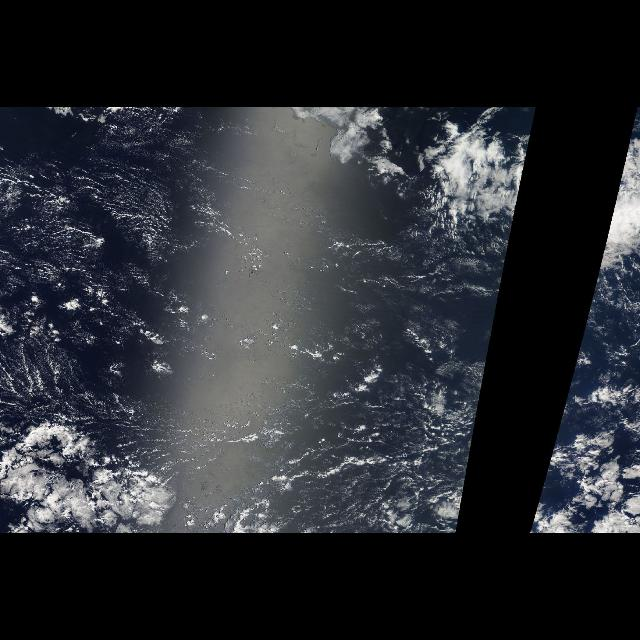Sugar: (0, 136, 406, 417)
